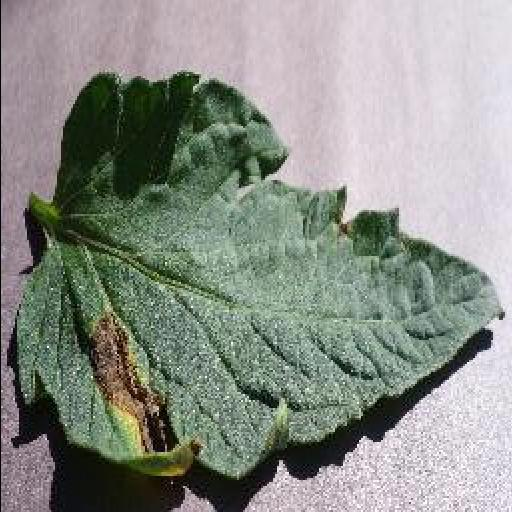disease_tomato: (12, 72, 506, 482)
